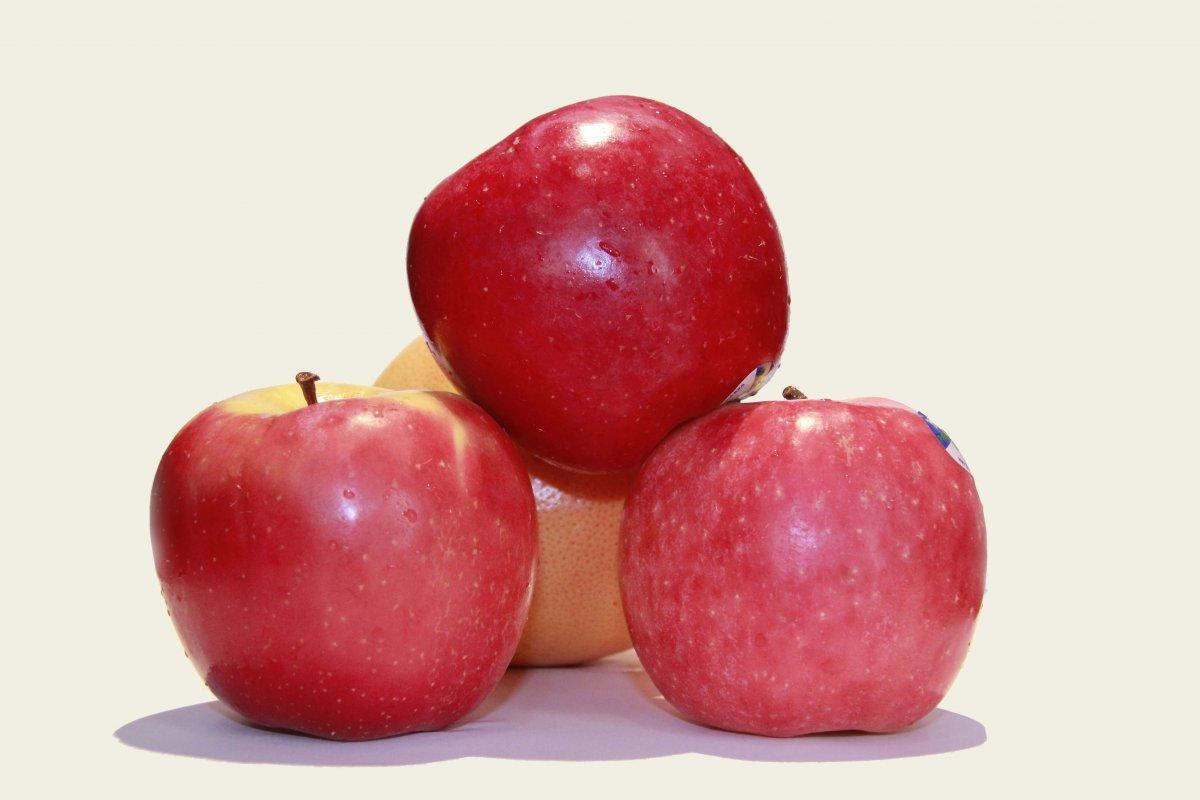apple: (400, 89, 786, 473), (148, 371, 539, 740), (619, 393, 984, 744)
